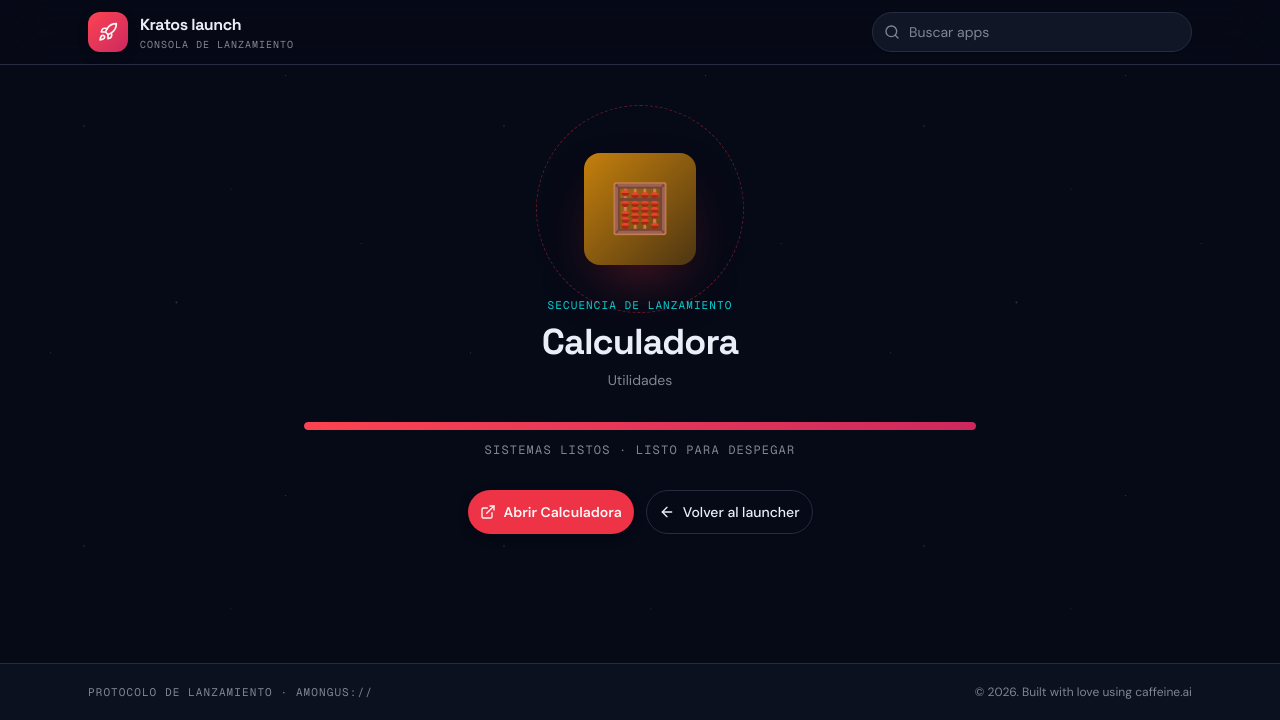
Scenario: LaunchPage › derives the protocol from the app id when none is declared
Expected: the progress indicator named "progreso de lanzamiento" is shown, [304, 422, 976, 430]
Click the button "Abrir Calculadora": (551, 512) [468, 490, 634, 534]
Wait 1900 ms
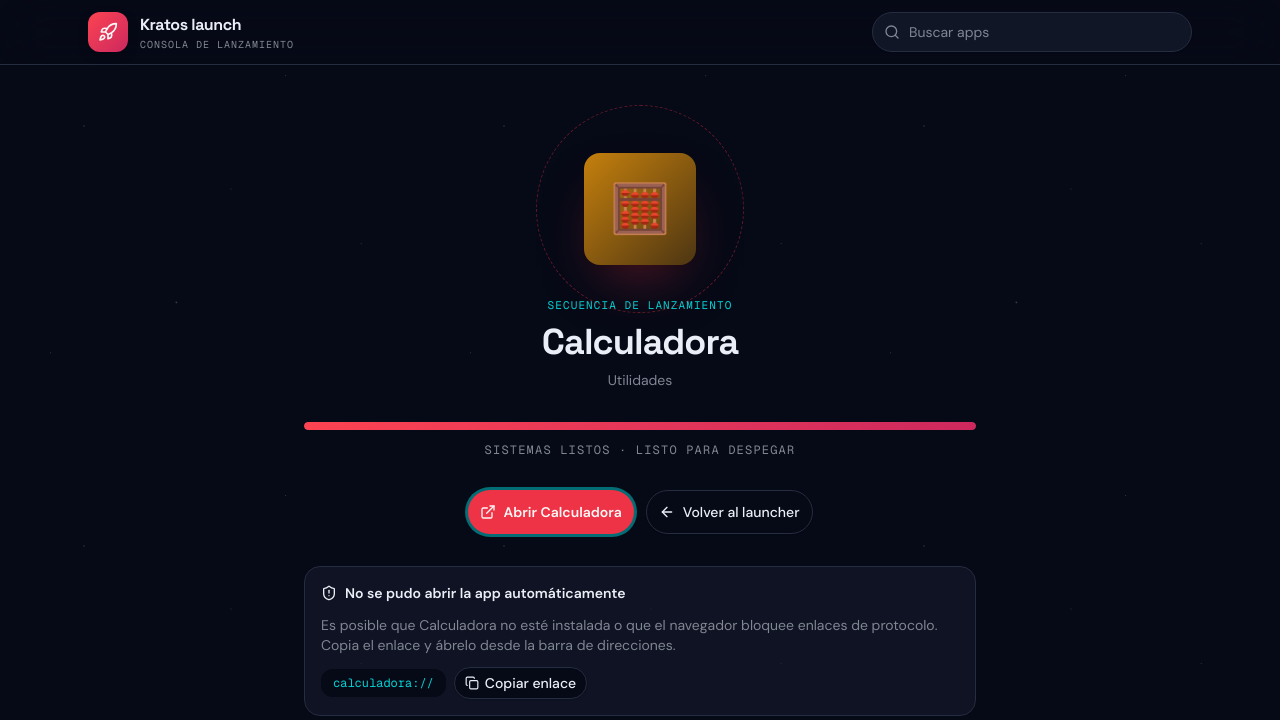
Expected: the text "calculadora://" is shown, [321, 668, 446, 696]
